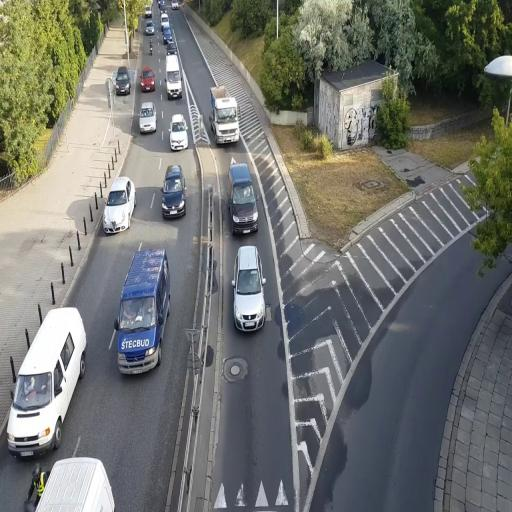vehicle: (6, 305, 88, 458), (6, 305, 87, 458), (114, 243, 171, 376), (28, 456, 115, 510), (233, 245, 266, 333), (228, 160, 258, 237), (102, 177, 136, 234), (210, 86, 239, 148), (162, 164, 186, 220), (169, 114, 188, 152), (138, 102, 156, 134), (114, 68, 131, 96), (139, 68, 155, 93), (162, 22, 172, 45)
